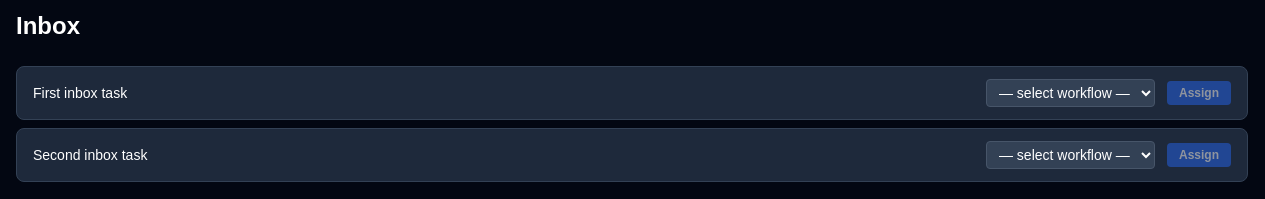
disables the Assign button until a workflow is selected
Expected: the text "First inbox task" is shown, [33,85,127,101]
Expected: the button "Assign" in the row of "First inbox task" is disabled, [1167,81,1231,105]
Select a workflow — button should become enabled
Select "Alpha" in the dropdown named "Assign \"First inbox task\" to a workflow" at (1070, 93), box [986,79,1155,107]
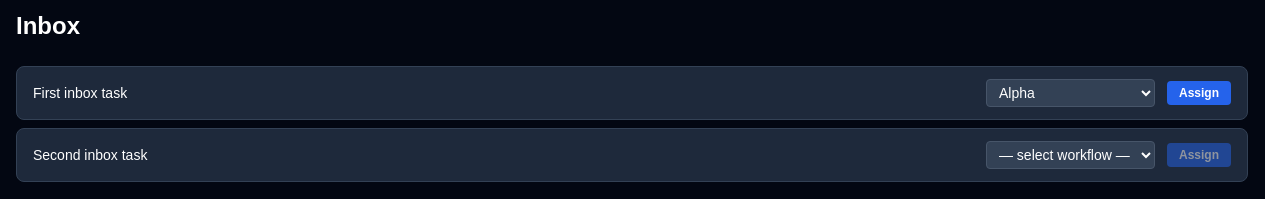
Expected: the button "Assign" in the row of "First inbox task" is enabled, [1167,81,1231,105]
